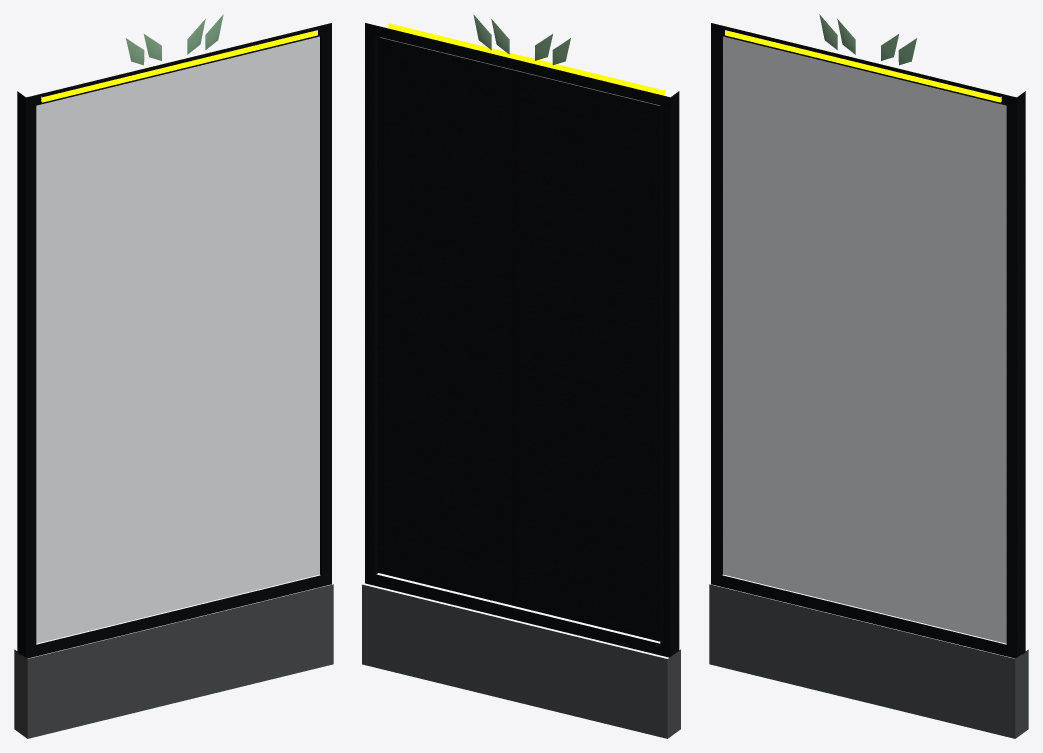
The model's file is tt_gym_mirror_crest.glb.
3 renders of one model, left to right at view 1: azimuth 30°, elevation 25°; view 2: azimuth 150°, elevation 25°; view 3: azimuth 330°, elevation 25°, orthographic.
Parts seen in each view (by area): view 1: Mirror_Sheet, Kick_Plinth, Frame, Crest_LED, Leaf_Crest; view 2: Backer_Plate, Kick_Plinth, Frame, Crest_LED, Leaf_Crest; view 3: Mirror_Sheet, Kick_Plinth, Frame, Crest_LED, Leaf_Crest.
Part boxes in pixels (x1,y1,x2,y2): Mirror_Sheet: [36, 36, 319, 643]; Kick_Plinth: [14, 584, 333, 738]; Frame: [17, 23, 331, 658]; Crest_LED: [41, 30, 317, 102]; Leaf_Crest: [126, 14, 223, 65]; Backer_Plate: [377, 37, 660, 641]; Kick_Plinth: [362, 584, 680, 738]; Frame: [365, 23, 679, 657]; Crest_LED: [388, 23, 665, 95]; Leaf_Crest: [473, 14, 570, 64]; Mirror_Sheet: [723, 36, 1006, 643]; Kick_Plinth: [709, 584, 1028, 738]; Frame: [711, 23, 1025, 658]; Crest_LED: [725, 30, 1001, 102]; Leaf_Crest: [819, 14, 916, 65].
Size of what is drawn, in the model's own units: 1.2 by 2.52 by 0.09.
5 materials, 1 textured.
